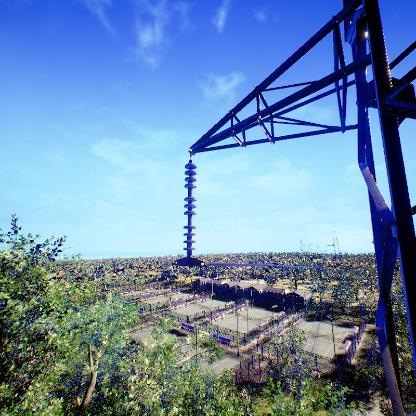insulator: (181, 159, 200, 254)
